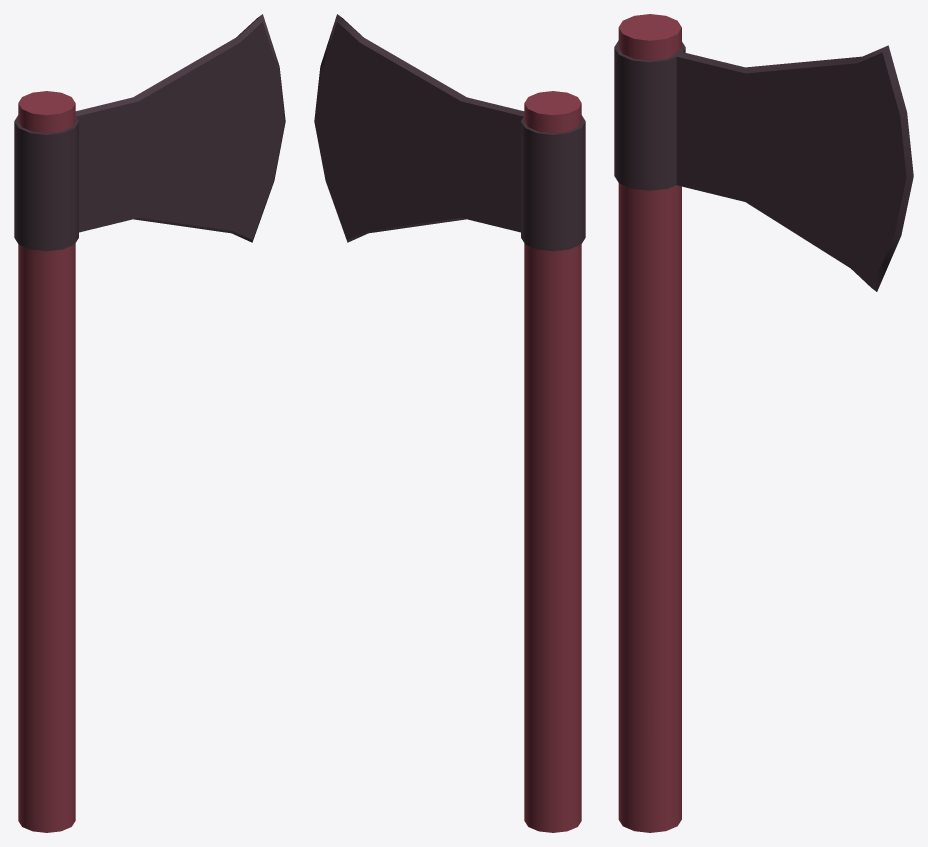
Rendered from machado.fbx.
3 views of the same model, side by side, from view 1: azimuth 30°, elevation 25°; view 2: azimuth 150°, elevation 25°; view 3: azimuth 330°, elevation 25° (orthographic). The views are drawn at different scales.
Parts seen in each view (by area): view 1: machado; view 2: machado; view 3: machado.
Part boxes in pixels (box(x1,y1,x2,y2)): machado: box(14, 14, 285, 832); machado: box(314, 14, 585, 832); machado: box(614, 14, 913, 832).
Bounding box in the file's own units: 23.01 × 62.09 × 4.84.
